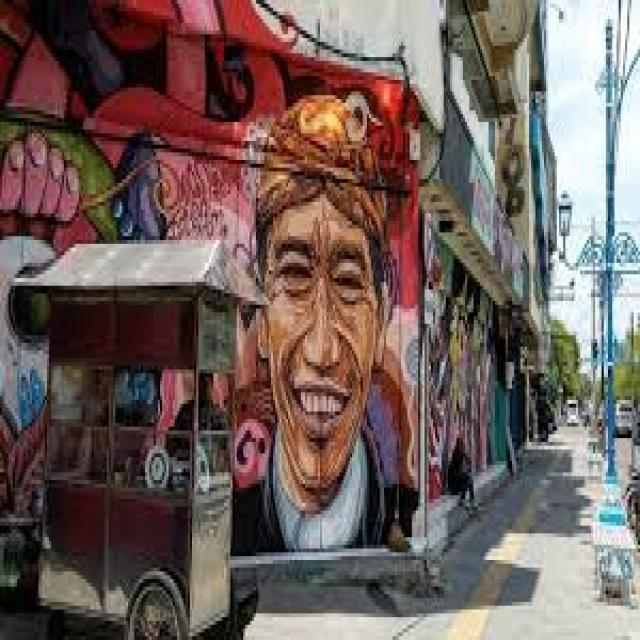-: (0, 0, 418, 549), (425, 234, 506, 495)
